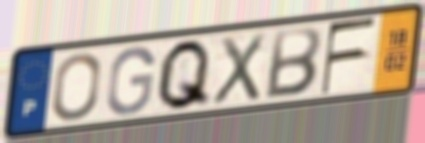B: (262, 24, 324, 101)
F: (319, 14, 380, 98)
G: (104, 44, 157, 118)
O: (50, 50, 104, 124)
Q: (153, 36, 215, 114)
X: (209, 30, 268, 108)
